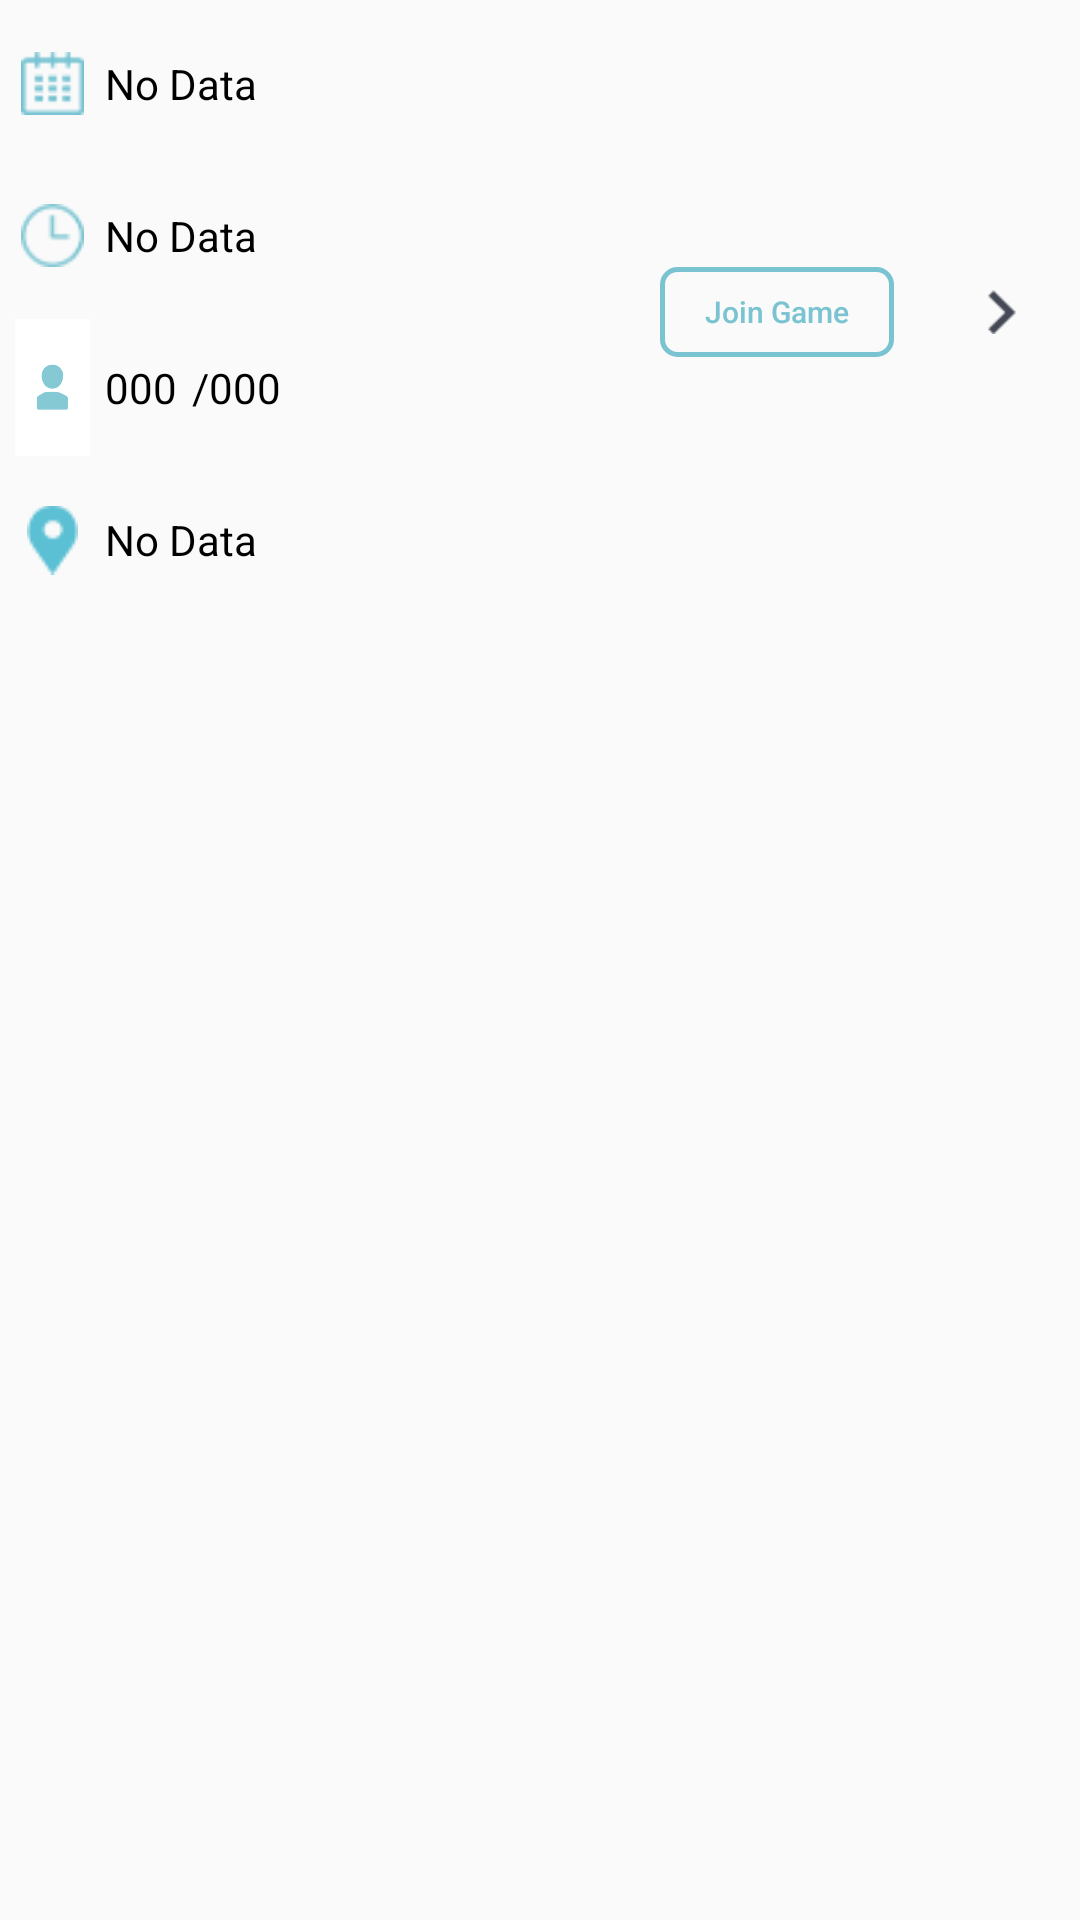

Icon bounding boxes for this 1080w x 1920h phone screenshot, format (x1, y1, x2, y2):
calendar: (21, 52, 84, 115)
location: (27, 506, 78, 575)
right arrow: (988, 290, 1016, 334)
time: (21, 204, 84, 267)
